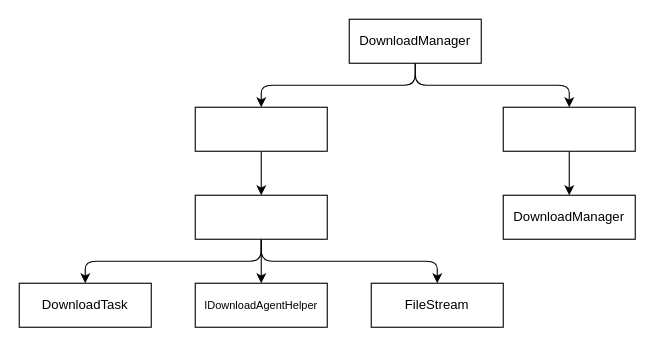
The diagram is 655 pixels wide and 347 high, and some of its shapes have lost their labels. Here are the shapes that lost their labels. From the top down, the centre of each, then its label:
At (x=260, y=128): "TaskPool".
At (x=568, y=128): "DownloadCounter".
At (x=260, y=216): "DownloadAgent".
